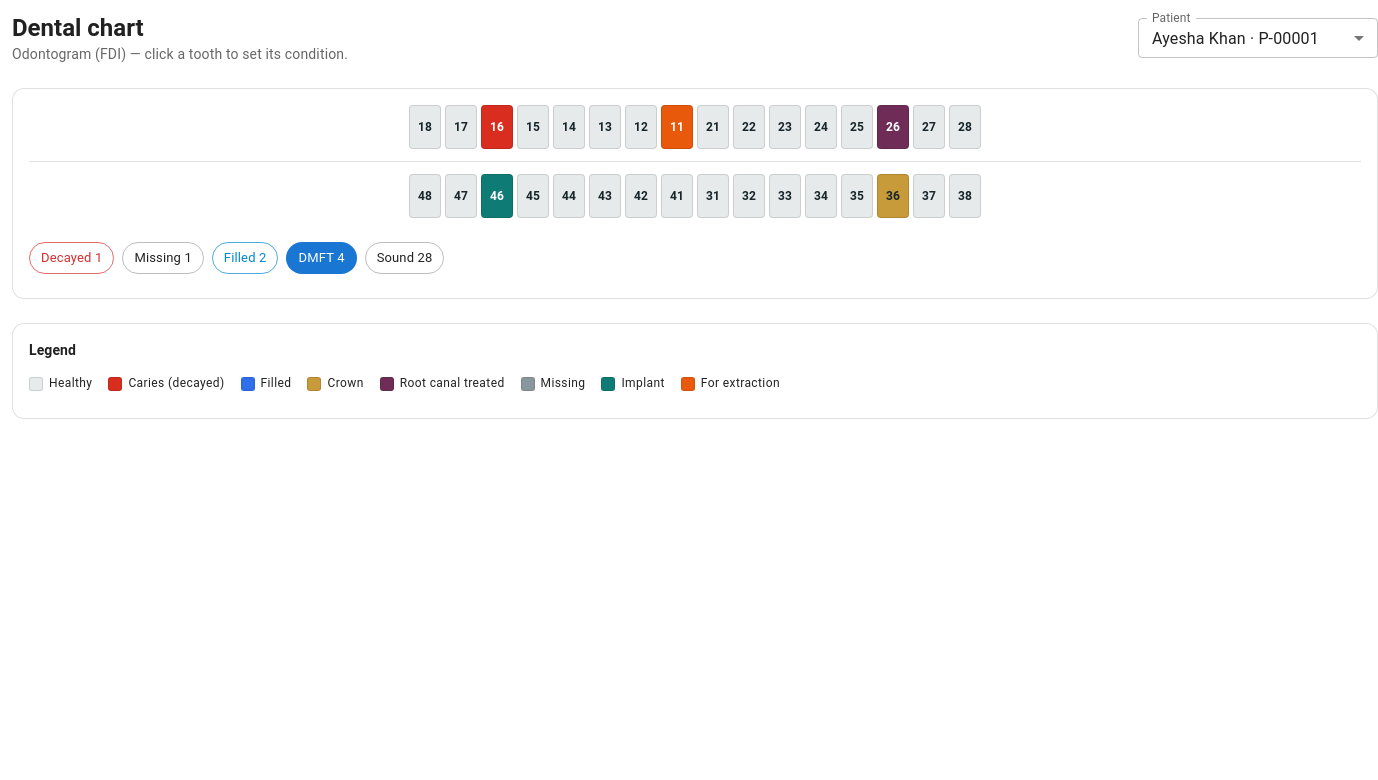
Test: the DMFT index is the server’s, not a recount of what is on screen › reloads the chart after a write, so the tooth and the index both move
The image size is (1378, 780).
Check: the text "Decayed 1" is shown, box [41,250,102,265]
Click the text titled "36 · crown" at (893, 196), box [877,174,909,218]
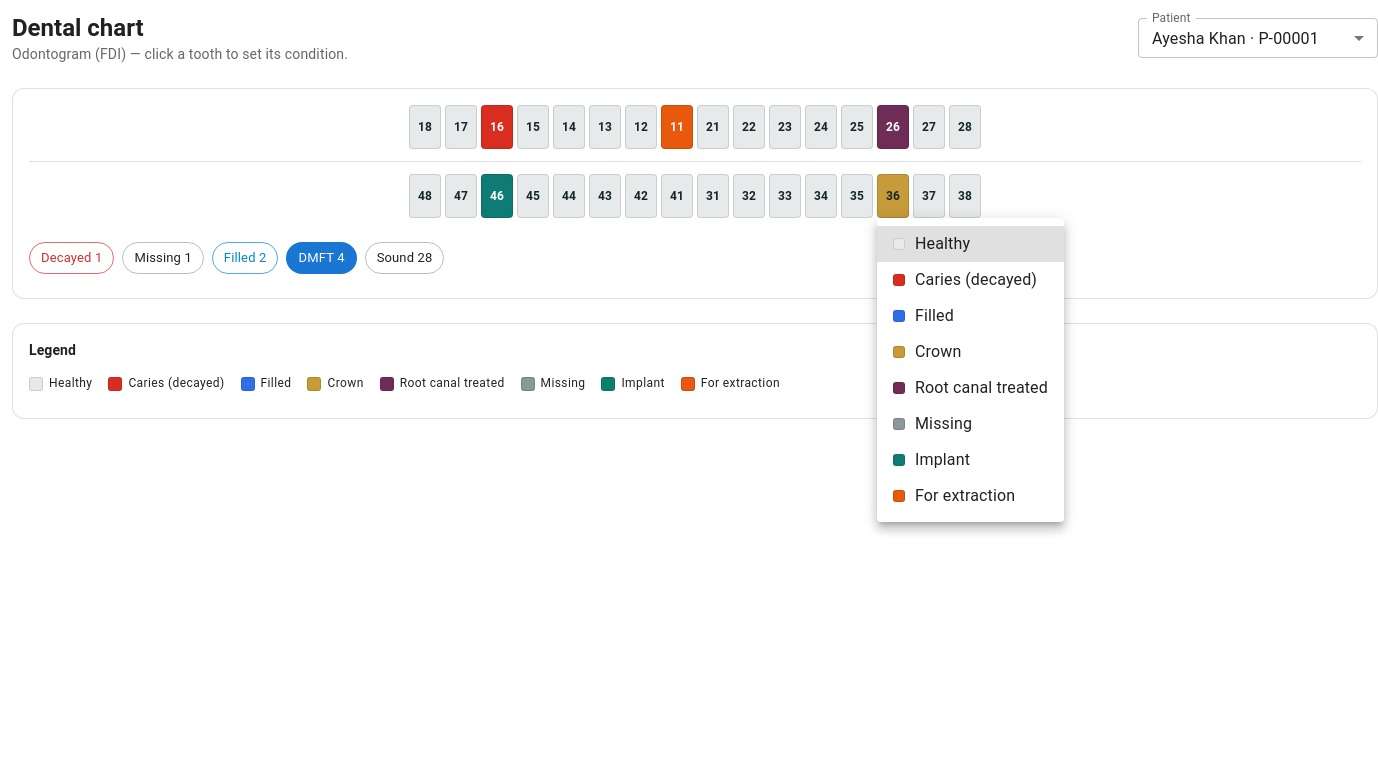
Click the menu item "Caries (decayed)" at (965, 280), box [893,270,1037,289]
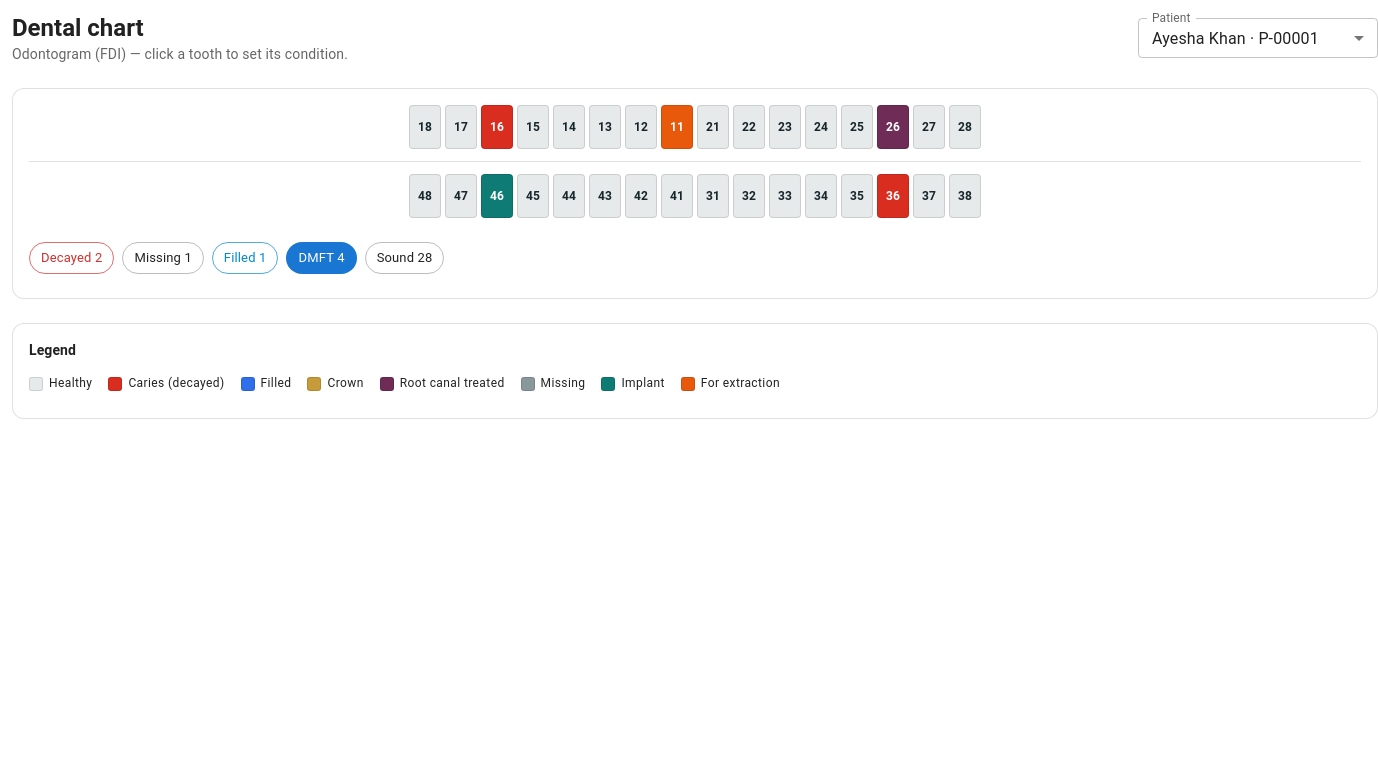
Check: the text titled "36 · caries" is shown, box [877,174,909,218]
Check: the text "Decayed 2" is shown, box [41,250,102,265]
Check: the text "Decayed 1" is gone
